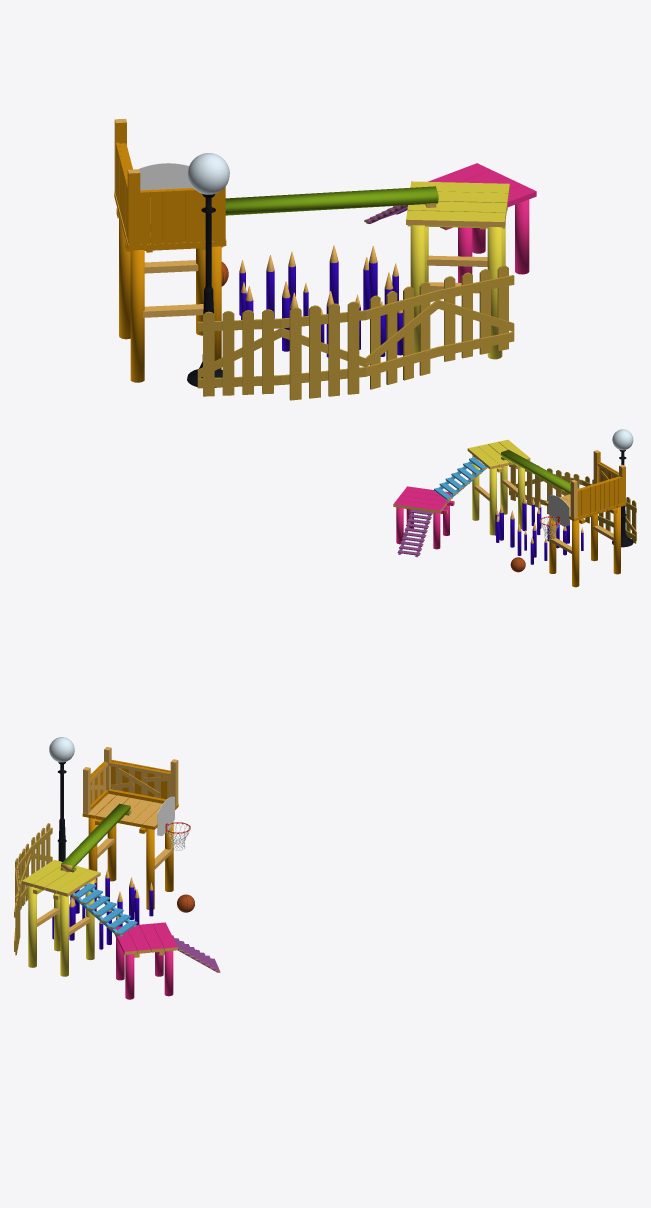
3 renders of one model, top to bottom at view 1: azimuth 30°, elevation 25°; view 2: azimuth 150°, elevation 25°; view 3: azimuth 270°, elevation 25°, orthographic. The views are drawn at different scales.
Parts seen in each view (by area): view 1: FenceStyle2Short.001, Cube.056, Cube.015, Cylinder.029, trave, Cube.004, lampione, shield; view 2: Cube.056, Cube.015, Cube.004, FenceStyle2Short.001, Cylinder.029, scala, scala.001, trave, lampione, shield; view 3: Cube.056, Cube.015, Cube.004, FenceStyle2Short.001, Cylinder.029, scala.001, trave, lampione.
Part boxes in pixels (left/top/right/bottom): FenceStyle2Short.001: left=197, top=265, right=514, bottom=400; Cube.056: left=114, top=118, right=226, bottom=382; Cube.015: left=406, top=181, right=509, bottom=359; Cylinder.029: left=239, top=245, right=402, bottom=357; trave: left=225, top=186, right=438, bottom=215; Cube.004: left=428, top=163, right=536, bottom=282; lampione: left=187, top=153, right=229, bottom=387; shield: left=138, top=163, right=192, bottom=189; Cube.056: left=544, top=450, right=626, bottom=587; Cube.015: left=467, top=439, right=530, bottom=535; Cube.004: left=393, top=486, right=454, bottom=549; FenceStyle2Short.001: left=509, top=465, right=636, bottom=543; Cylinder.029: left=495, top=495, right=583, bottom=564; scala: left=397, top=509, right=432, bottom=557; scala.001: left=434, top=457, right=487, bottom=500; trave: left=501, top=449, right=579, bottom=493; lampione: left=612, top=429, right=633, bottom=547; shield: left=548, top=495, right=569, bottom=526; Cube.056: left=82, top=747, right=178, bottom=909; Cube.015: left=21, top=860, right=100, bottom=976; Cube.004: left=114, top=922, right=177, bottom=999; FenceStyle2Short.001: left=14, top=823, right=52, bottom=955; Cylinder.029: left=52, top=869, right=153, bottom=949; scala.001: left=70, top=883, right=137, bottom=936; trave: left=60, top=803, right=131, bottom=872; lampione: left=49, top=737, right=74, bottom=861.
Bounding box in the file's own units: 3524 × 1659 × 3979.
Materials: 17 (2 with a texture image).
